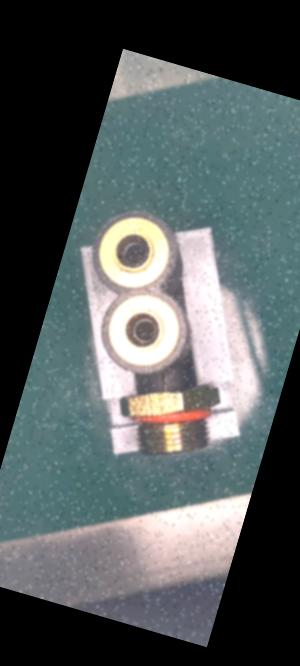craze: (155, 369, 170, 395)
